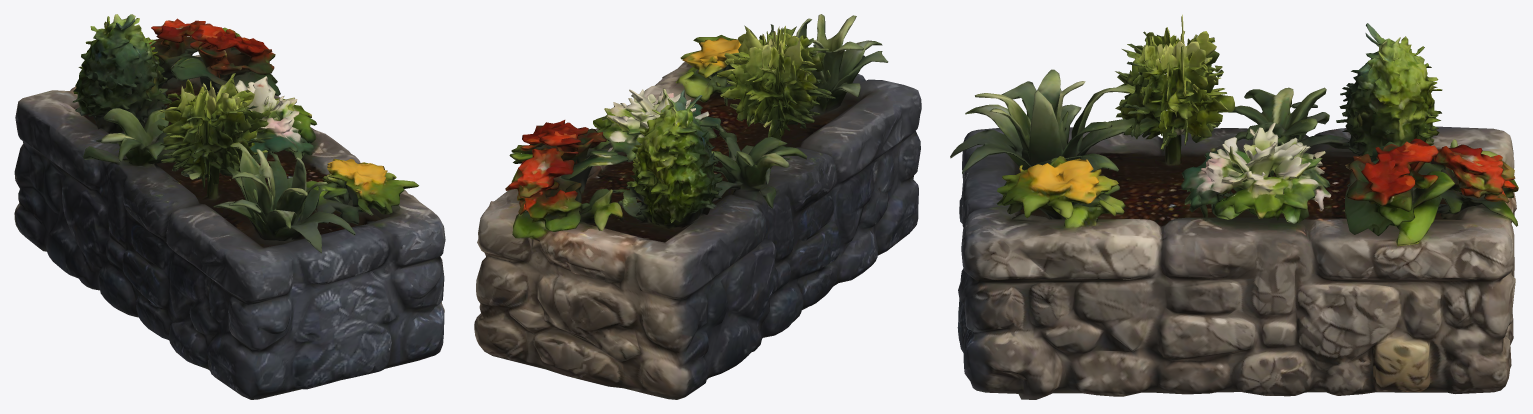
Rendered from plaza-flowerbed-rect.glb.
3 renders of one model, left to right at view 1: azimuth 30°, elevation 25°; view 2: azimuth 150°, elevation 25°; view 3: azimuth 270°, elevation 25°, orthographic. The views are drawn at different scales.
Parts seen in each view (by area): view 1: tripo_node_f3d918ea-74d0-46a6-8083-20b187194865; view 2: tripo_node_f3d918ea-74d0-46a6-8083-20b187194865; view 3: tripo_node_f3d918ea-74d0-46a6-8083-20b187194865.
Boxes of the visible parts, <box> form: tripo_node_f3d918ea-74d0-46a6-8083-20b187194865: <box>14,14,445,399</box>; tripo_node_f3d918ea-74d0-46a6-8083-20b187194865: <box>474,14,921,399</box>; tripo_node_f3d918ea-74d0-46a6-8083-20b187194865: <box>950,14,1518,399</box>.
Bounding box in the file's own units: 0.7648 × 0.7999 × 1.43.
Materials: 1 (1 with a texture image).
